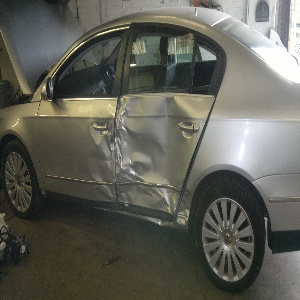door: (64, 101, 178, 211)
